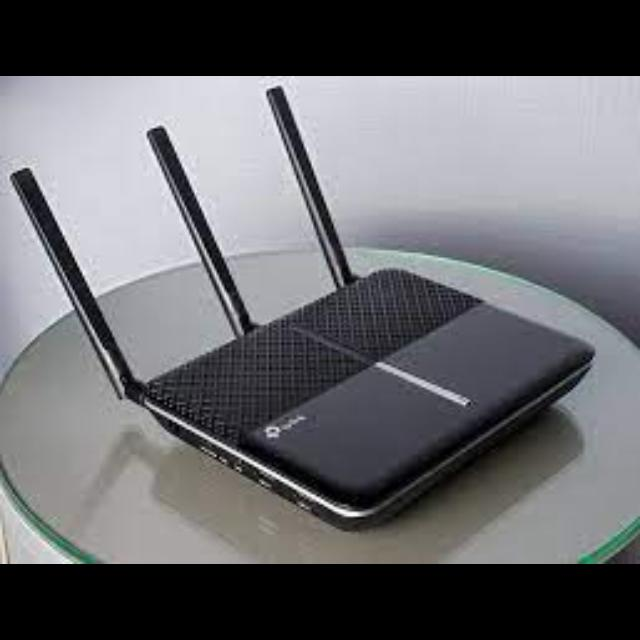Router: (10, 88, 598, 534)
